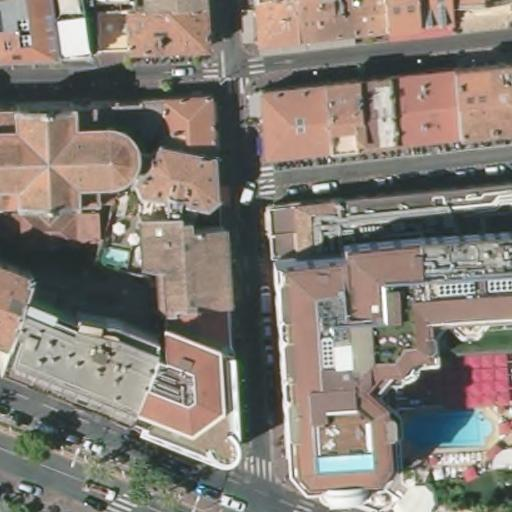pool: (399, 404, 496, 451), (306, 446, 381, 475), (93, 242, 134, 273)
